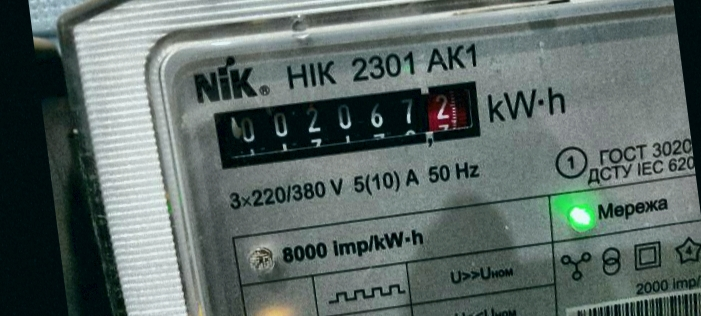0: (237, 112, 258, 143), (270, 106, 291, 136), (333, 97, 354, 127)
2: (431, 88, 453, 119), (303, 101, 324, 132)
6: (366, 96, 387, 127)
7: (399, 92, 418, 124)
screen: (199, 63, 499, 181)
